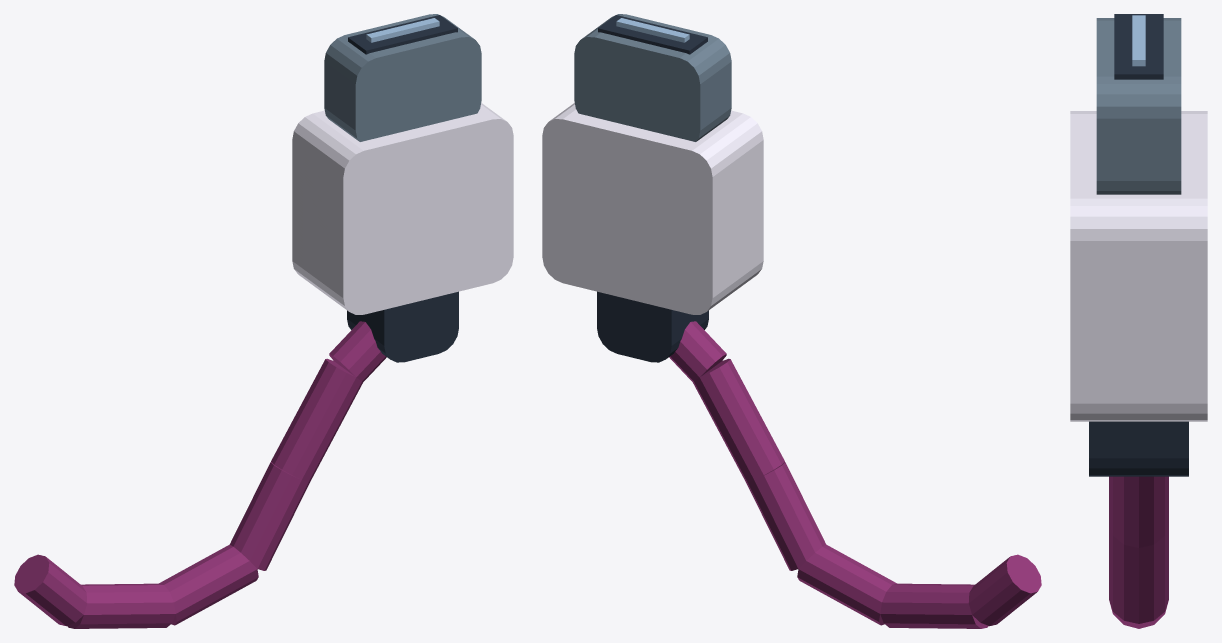
The model's file is usbc.glb.
The picture shows the model from 3 angles, left to right: view 1: azimuth 30°, elevation 25°; view 2: azimuth 150°, elevation 25°; view 3: azimuth 270°, elevation 25°; orthographic projection. The views are drawn at different scales.
Parts seen in each view (by area): view 1: plug sleeve, metal plug, rubber cable4, strain relief, rubber cable3, rubber cable1, rubber cable2, rubber cable0, rubber cable5, plug opening, contact tongue; view 2: plug sleeve, metal plug, rubber cable4, strain relief, rubber cable3, rubber cable1, rubber cable2, rubber cable0, rubber cable5, plug opening, contact tongue; view 3: plug sleeve, metal plug, strain relief, rubber cable3, rubber cable4, plug opening, contact tongue, rubber cable2.
Boxes of the visible parts, left/top/right/bottom form: plug sleeve: left=292, top=103, right=513, bottom=314; metal plug: left=324, top=14, right=481, bottom=141; rubber cable4: left=271, top=358, right=362, bottom=481; strain relief: left=347, top=291, right=458, bottom=362; rubber cable3: left=230, top=462, right=309, bottom=570; rubber cable1: left=67, top=583, right=175, bottom=628; rubber cable2: left=159, top=544, right=258, bottom=625; rubber cable0: left=14, top=554, right=87, bottom=626; rubber cable5: left=329, top=321, right=386, bottom=381; plug opening: left=348, top=15, right=457, bottom=54; contact tongue: left=366, top=18, right=439, bottom=42; plug sleeve: left=542, top=103, right=763, bottom=314; metal plug: left=574, top=14, right=731, bottom=141; rubber cable4: left=693, top=358, right=784, bottom=481; strain relief: left=597, top=291, right=708, bottom=362; rubber cable3: left=746, top=462, right=825, bottom=570; rubber cable1: left=880, top=583, right=988, bottom=628; rubber cable2: left=797, top=544, right=896, bottom=625; rubber cable0: left=968, top=554, right=1041, bottom=626; rubber cable5: left=669, top=321, right=726, bottom=381; plug opening: left=598, top=15, right=707, bottom=54; contact tongue: left=616, top=18, right=689, bottom=42; plug sleeve: left=1070, top=111, right=1207, bottom=421; metal plug: left=1096, top=18, right=1181, bottom=194; strain relief: left=1089, top=421, right=1188, bottom=476; rubber cable3: left=1109, top=524, right=1168, bottom=623; rubber cable4: left=1109, top=476, right=1168, bottom=547; plug opening: left=1114, top=14, right=1163, bottom=79; contact tongue: left=1132, top=15, right=1145, bottom=66; rubber cable2: left=1109, top=602, right=1168, bottom=628.
Size of the model in its own units: 1.38 by 1.51 by 0.26.
